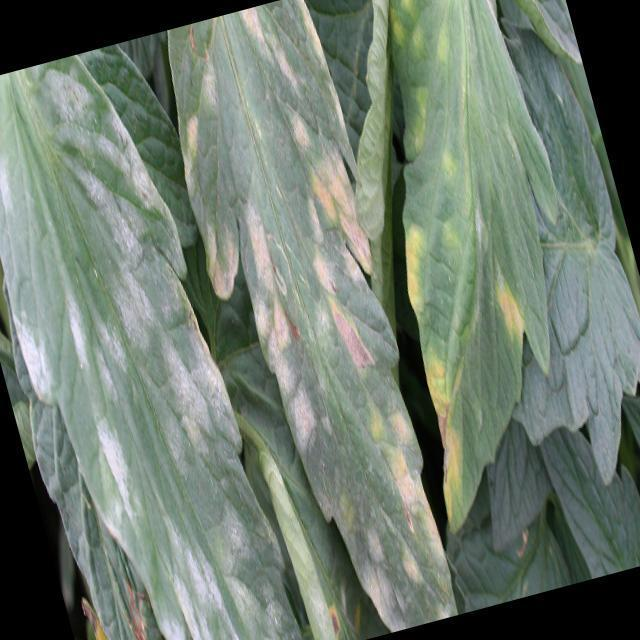Mosaic Virus: (160, 37, 462, 640), (0, 48, 300, 640), (311, 0, 586, 557)
